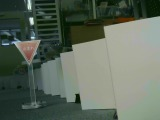stop: (13, 40, 41, 65)
